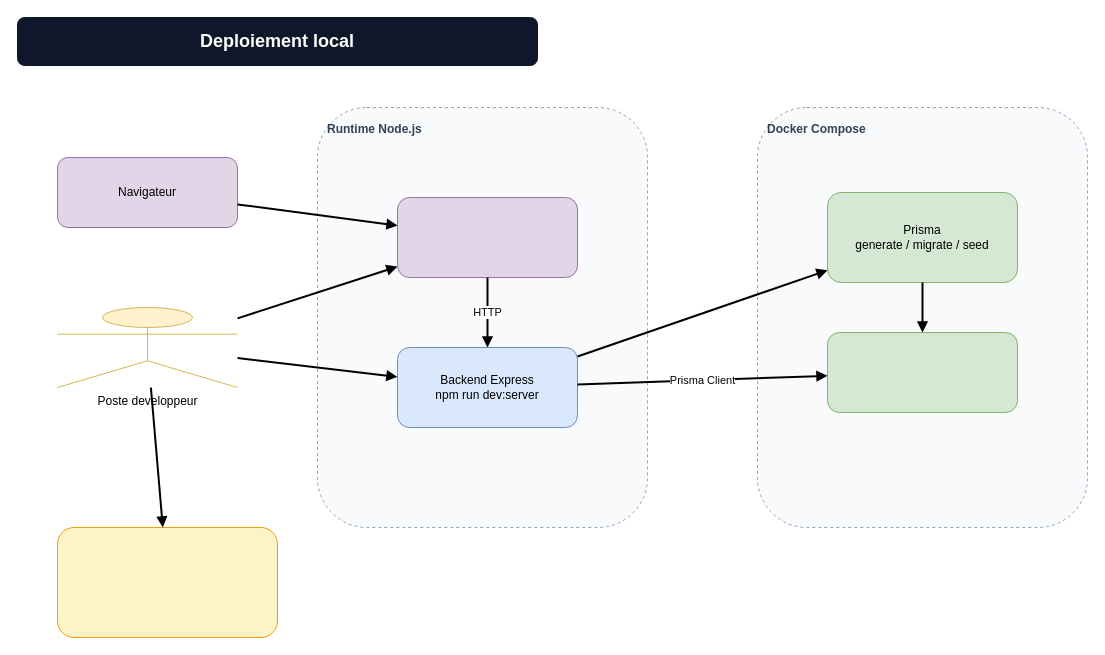
The diagram is 1105 pixels wide and 655 high, and some of its shapes have lost their labels. Each missing label, with the centre of its shape:
".env DATABASE_URL CLIENT_ORIGIN SESSION_SECRET" goes at pixel 167 582.
"Frontend Vite npm run dev:web" goes at pixel 487 237.
"PostgreSQL" goes at pixel 922 372.
